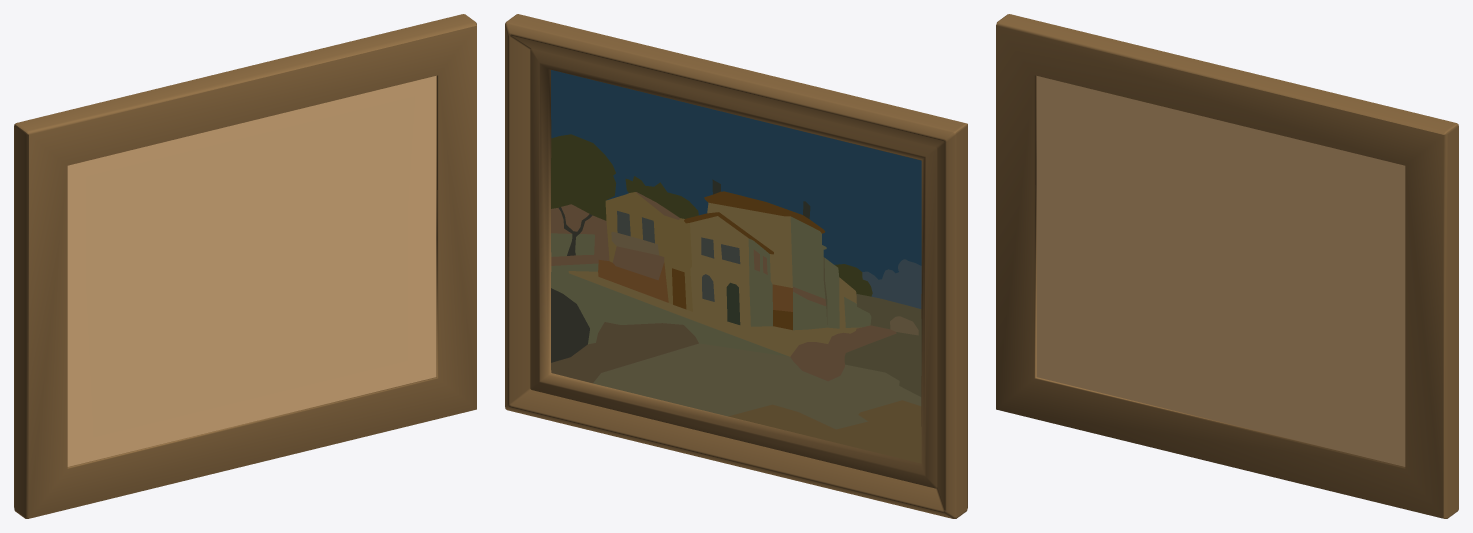
Rendered from CharSkyKid_Prop_AP31PaintingHouse.glb.
The picture shows the model from 3 angles, left to right: view 1: azimuth 30°, elevation 25°; view 2: azimuth 150°, elevation 25°; view 3: azimuth 330°, elevation 25°; orthographic projection.
Visible parts, largest first — view 1: CharSkyKid_Prop_AP31PaintingHouse; view 2: CharSkyKid_Prop_AP31PaintingHouse; view 3: CharSkyKid_Prop_AP31PaintingHouse.
Part boxes in pixels (x1,y1,x2,y2): CharSkyKid_Prop_AP31PaintingHouse: [14, 14, 476, 518]; CharSkyKid_Prop_AP31PaintingHouse: [505, 14, 967, 518]; CharSkyKid_Prop_AP31PaintingHouse: [996, 14, 1458, 518].
Bounding box in the file's own units: 2.23 × 1.83 × 0.1427.
1 material, 1 textured.
